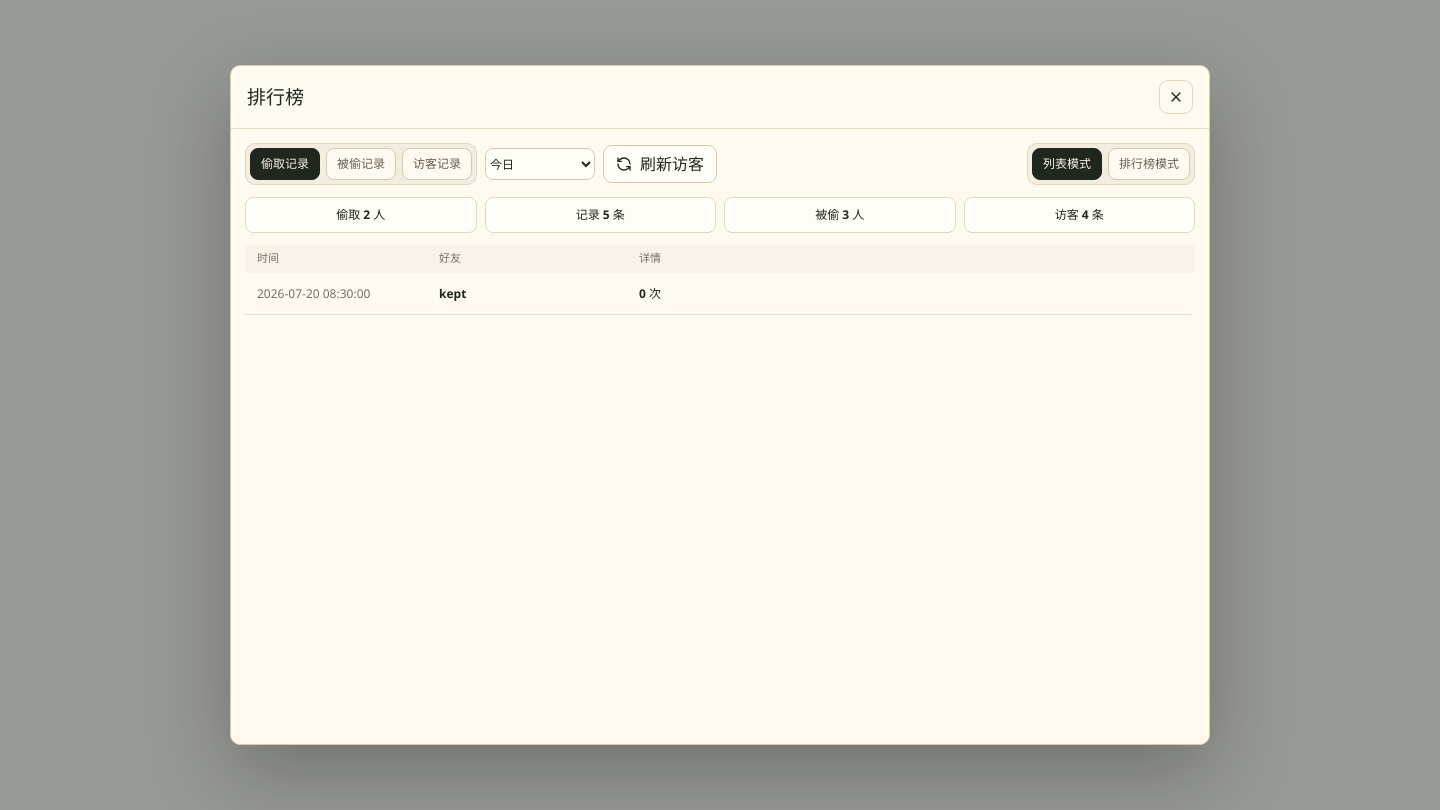
Scenario: SocialRankingDialog › keeps rows and shows non-blocking status when explicit visitor refresh fails
Click the button "访客记录" at (437, 164), box [402,148,472,180]
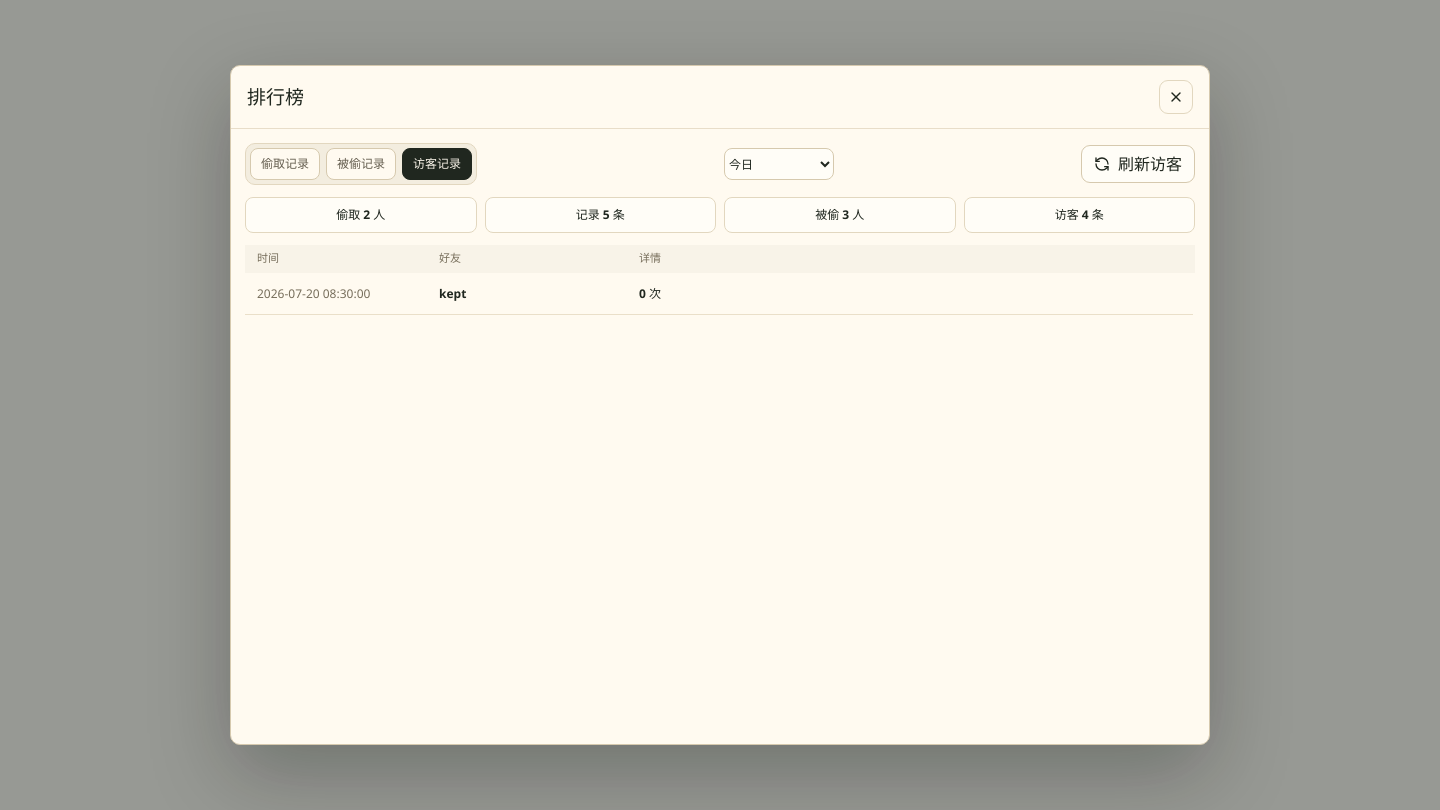
Click the button "刷新访客" at (1138, 164), box [1081,145,1195,183]
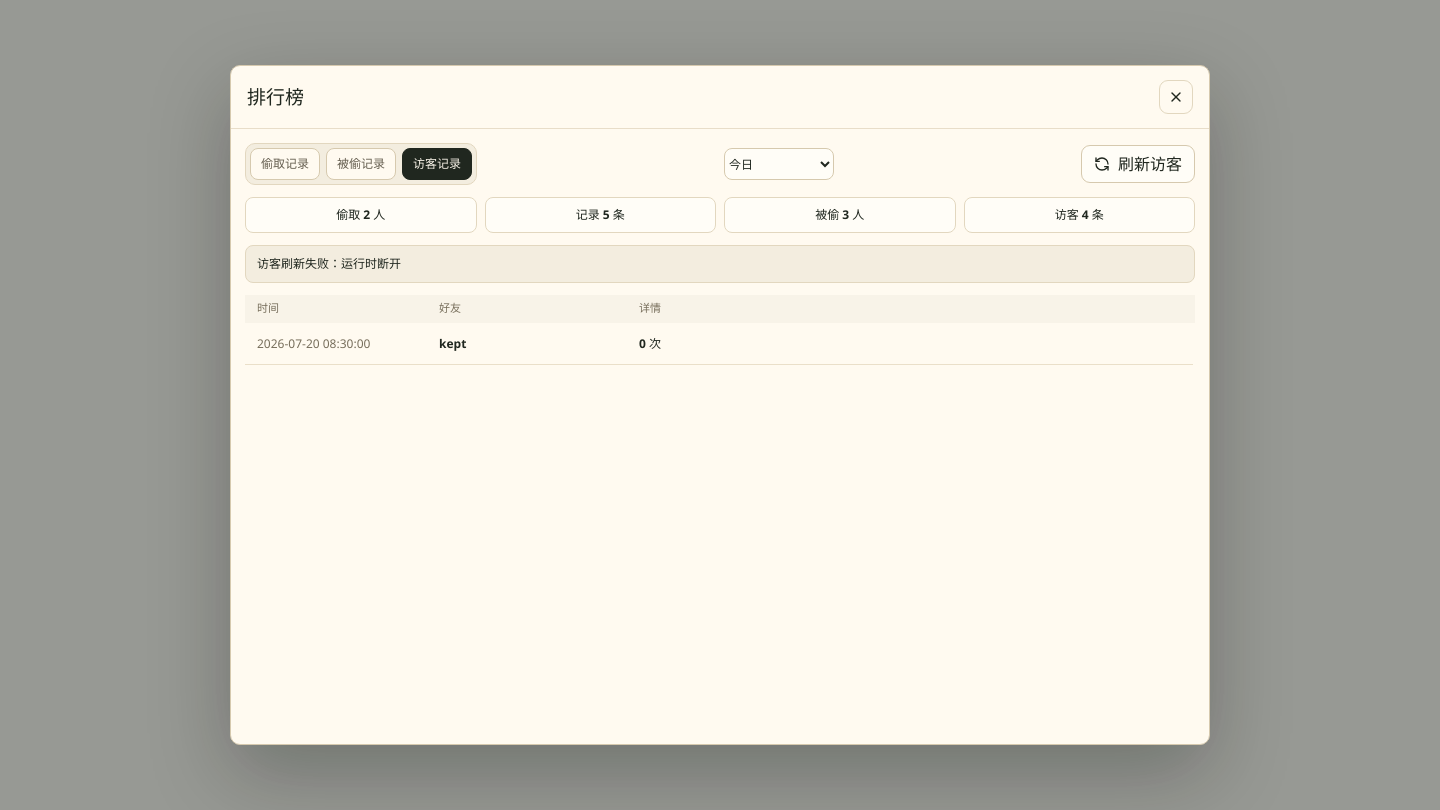
Expected: the message "访客刷新失败：运行时断开" is shown, [245,245,1195,283]
